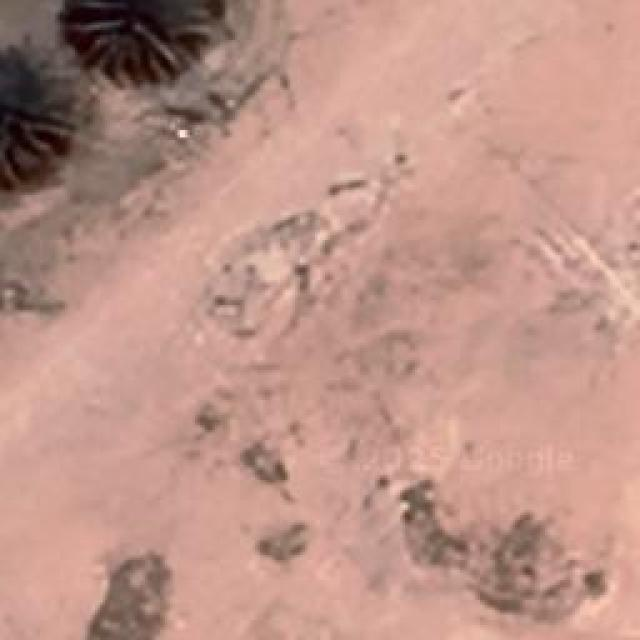PalmTree: (68, 0, 210, 80), (0, 52, 65, 190)
